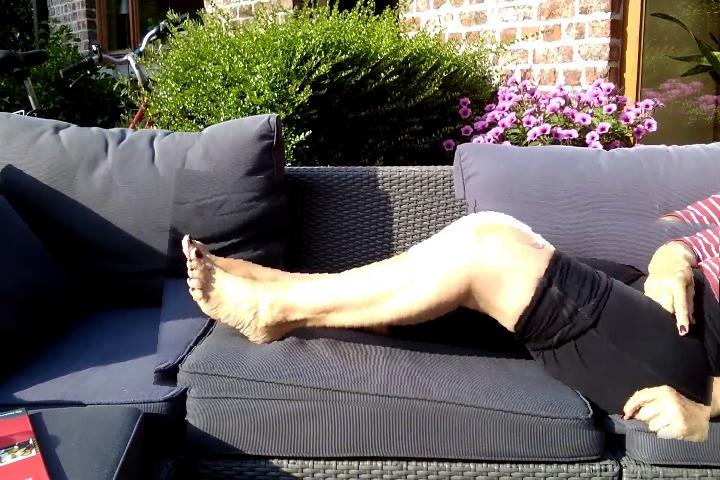lower_body: (159, 183, 720, 429)
